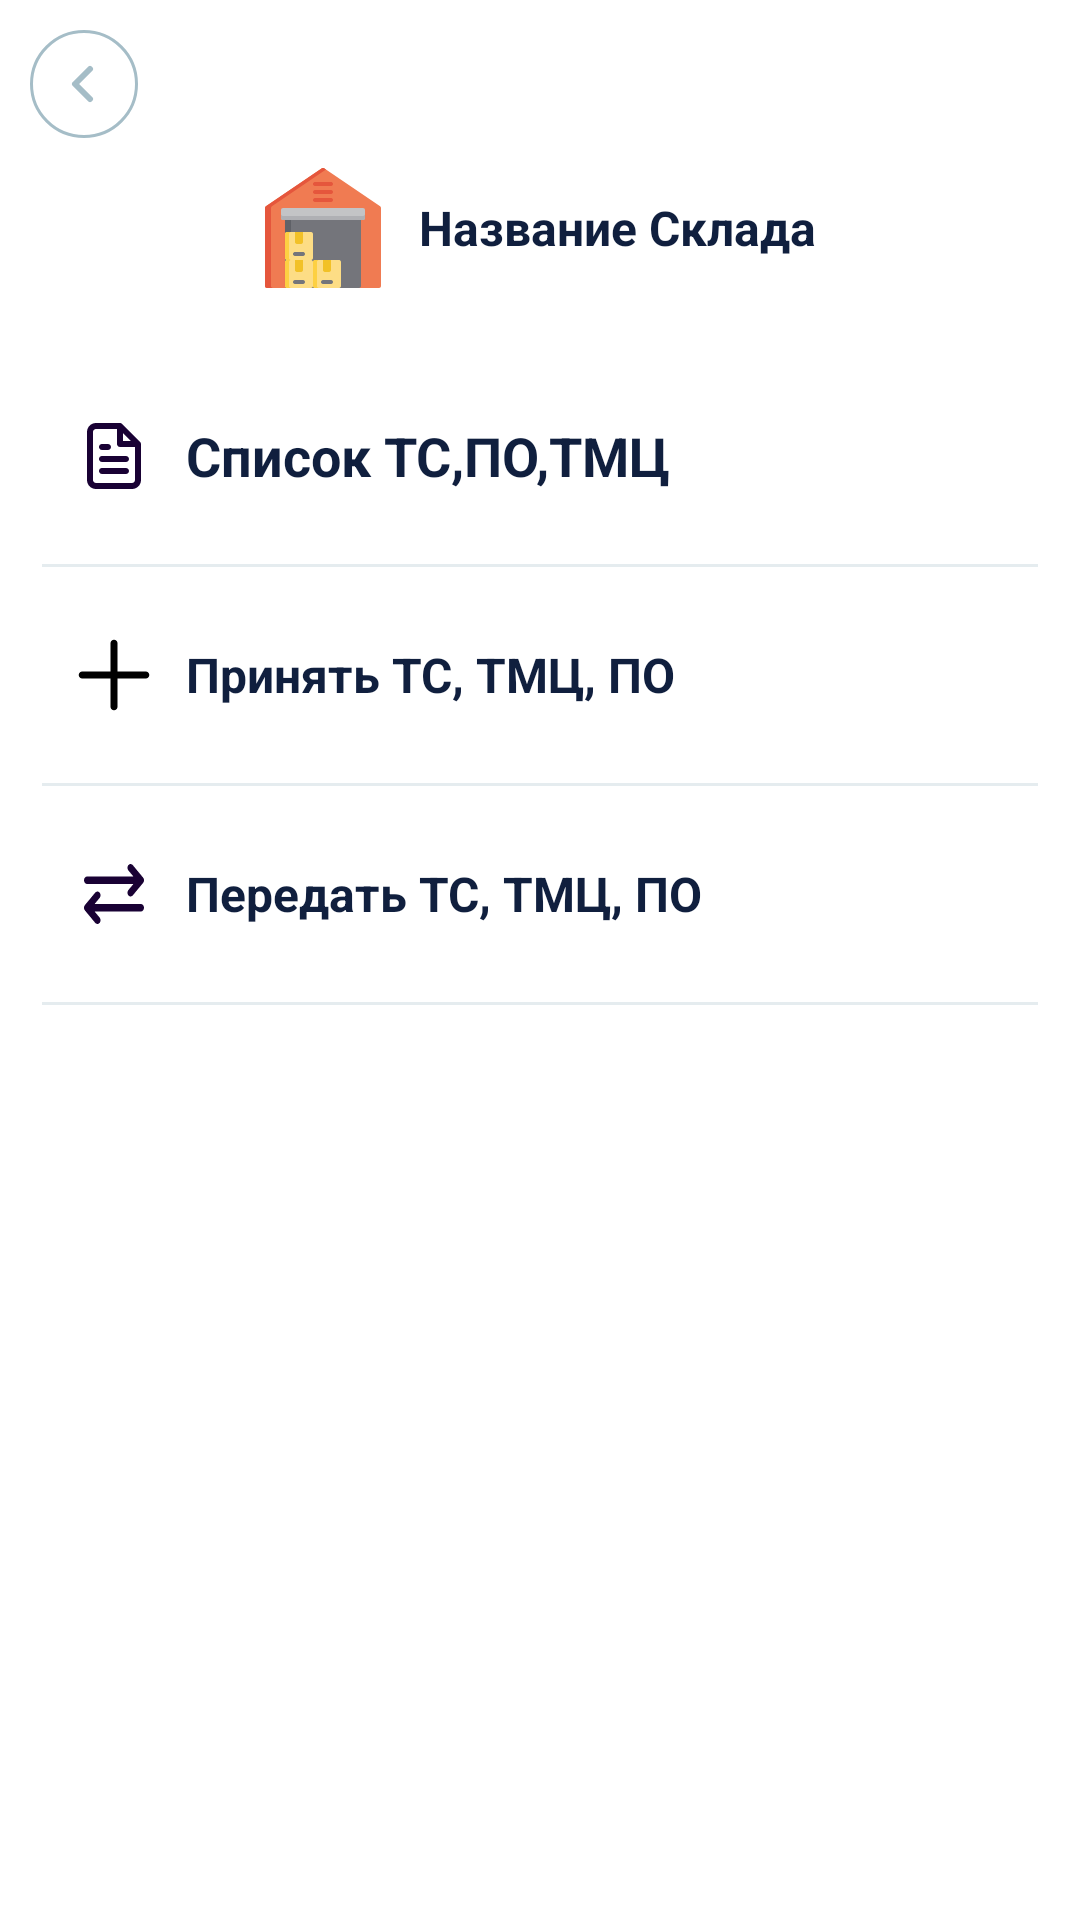

Screen size 1080x1920. Icon name, then its box in pixels as (x1, y1, x2, y2):
add: (78, 639, 150, 711)
receipt: (87, 423, 141, 489)
swap: (84, 864, 144, 924)
